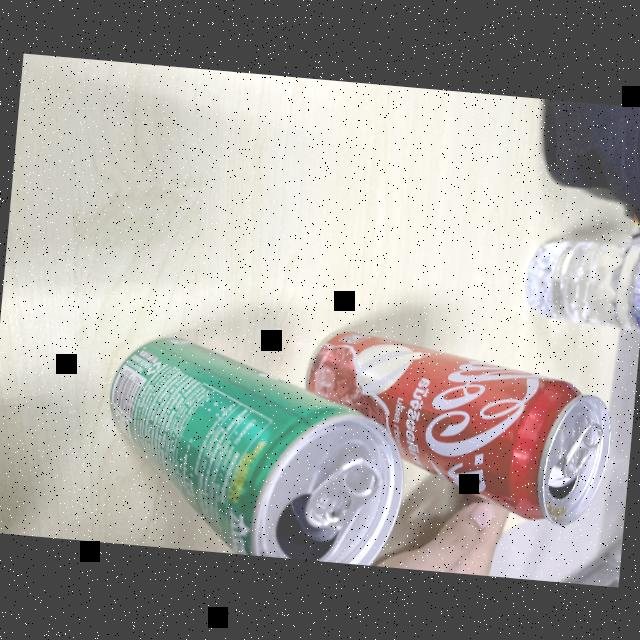can: (90, 310, 412, 567), (290, 310, 620, 530)
